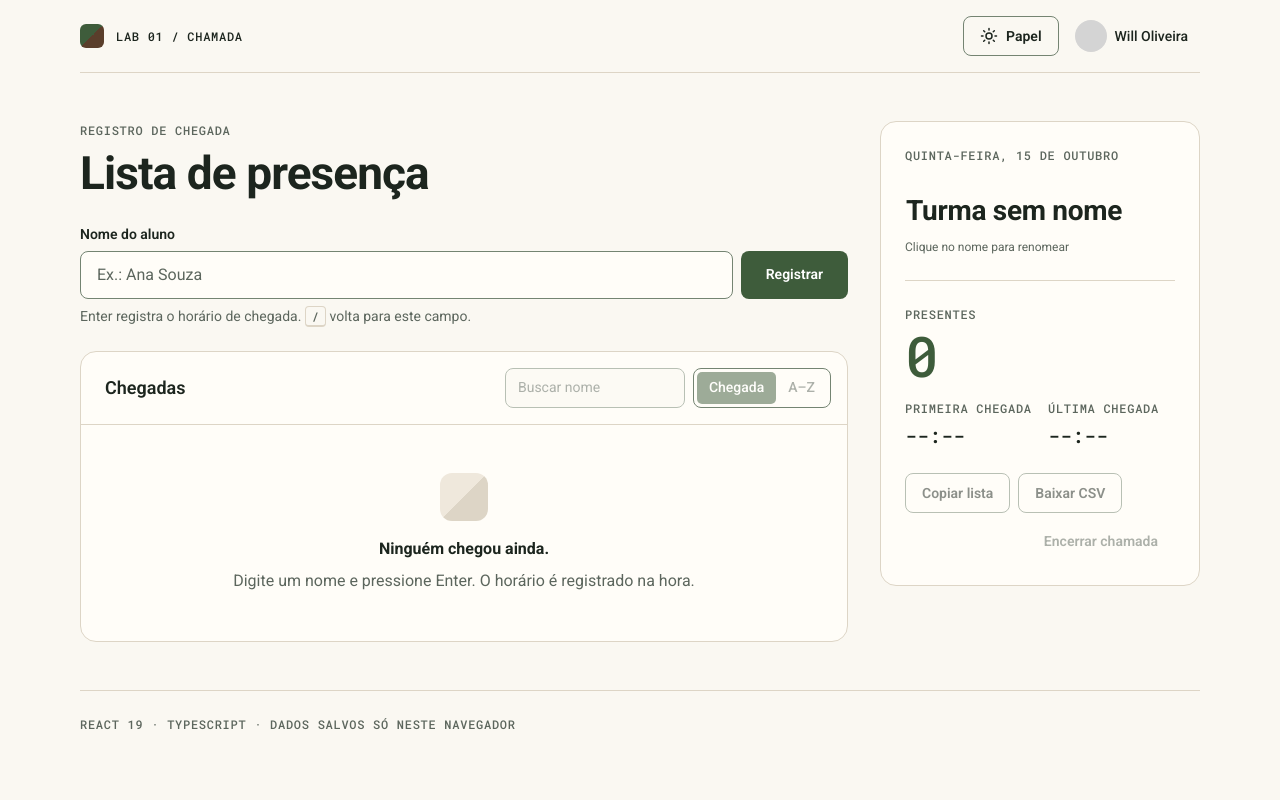
it: Lista de presença › mantém alunos registrados no mesmo segundo
In the field labelled "Nome do aluno": x=406, y=275 x1=80 y1=251 x2=733 y2=299, type "Ana"
Then press Enter
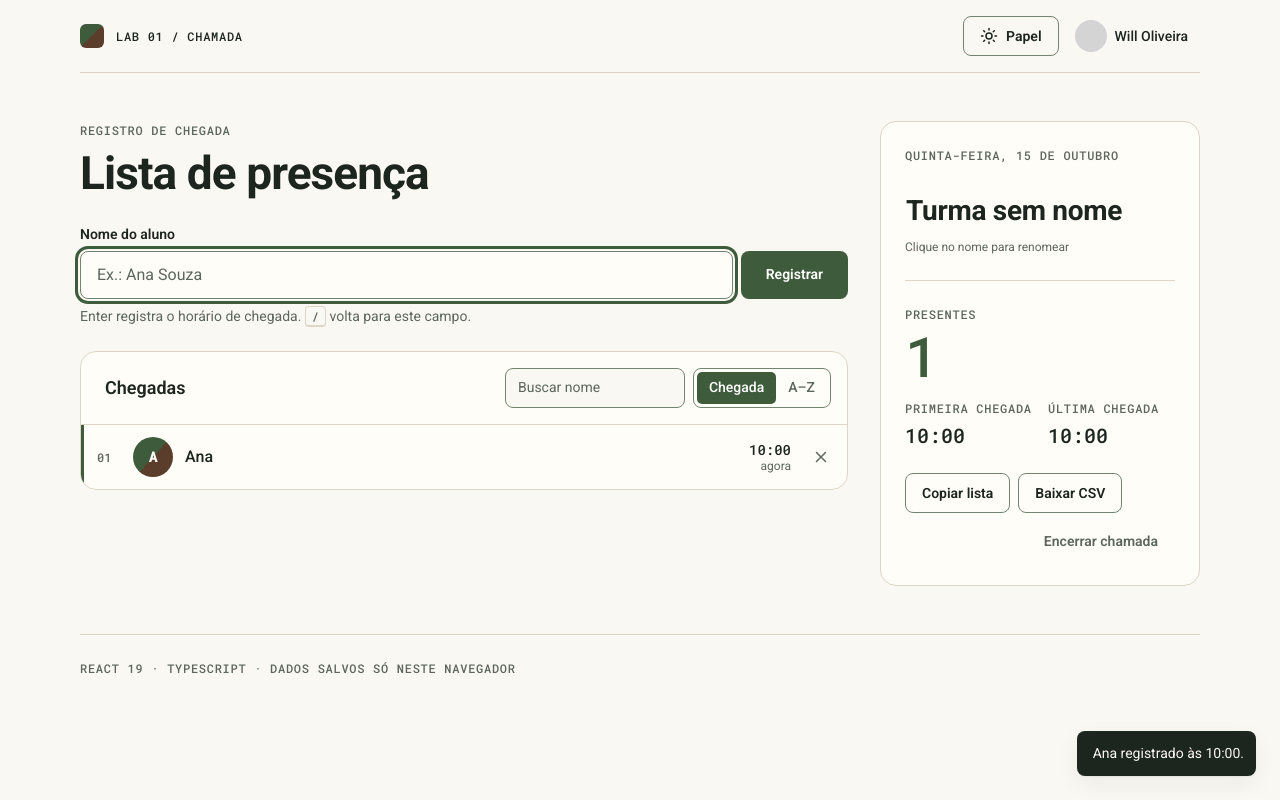
In the field labelled "Nome do aluno": x=406, y=275 x1=80 y1=251 x2=733 y2=299, type "Bruno"
Then press Enter
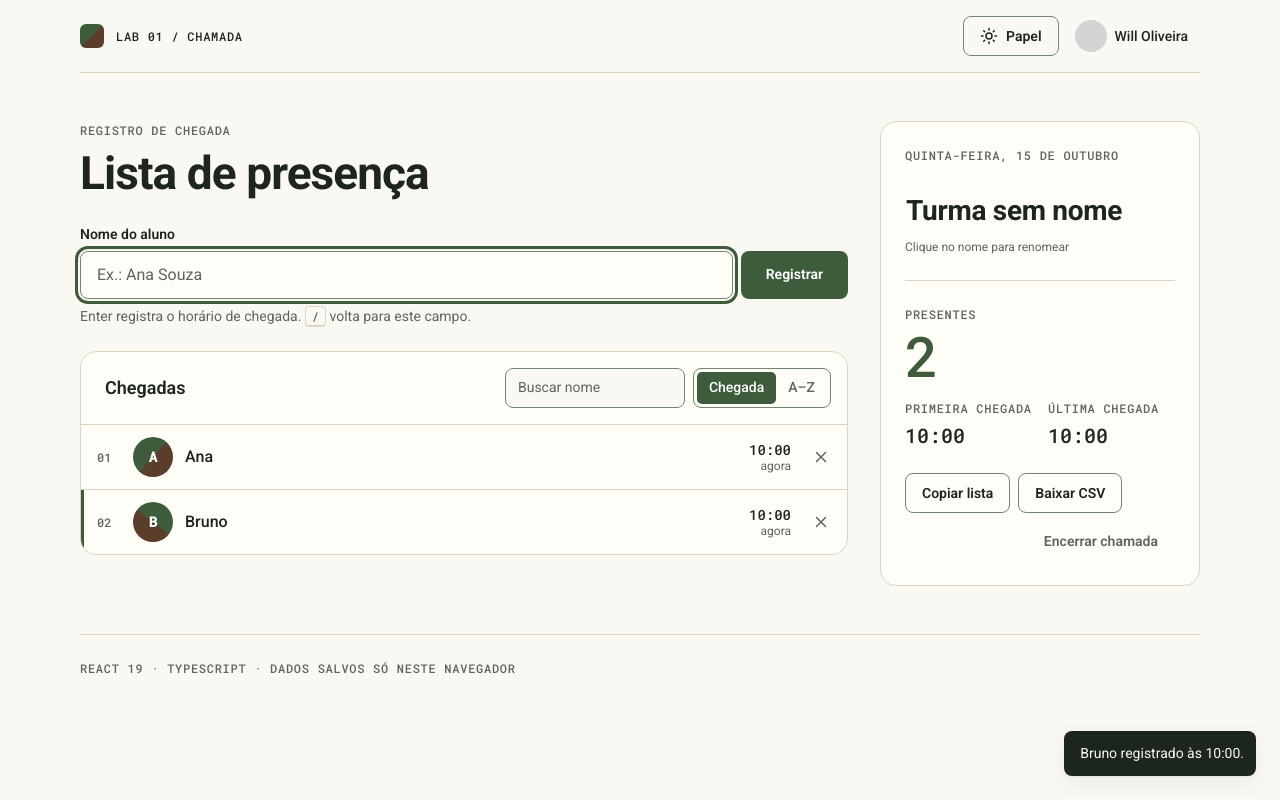
Now the number of list items is 2, box x1=81 y1=425 x2=847 y2=490; x1=81 y1=490 x2=847 y2=554
